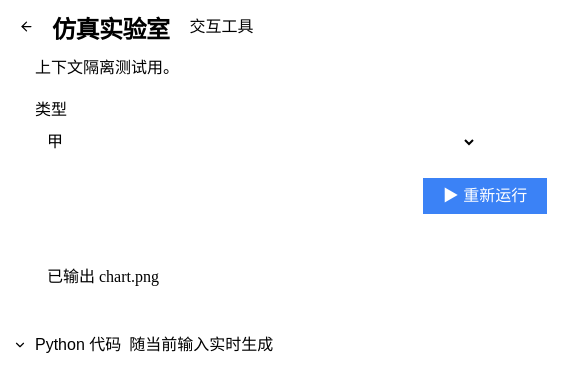
Scenario: InteractiveToolPage › 未锁型页内切换类型：旧类型的运行结果不再显示
The image size is (564, 370).
Select "乙" in the dropdown labelled "类型": (256, 142) [35,126,477,158]
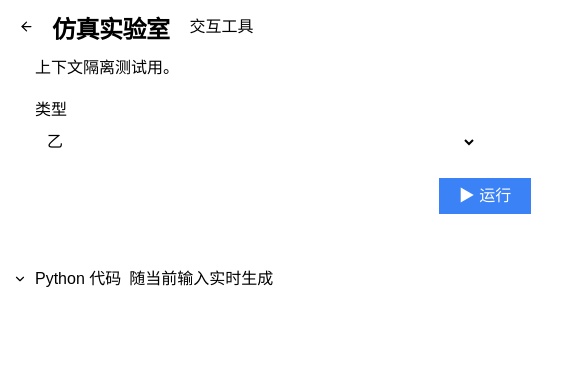
Expected: the text "已输出 chart.png" is gone
